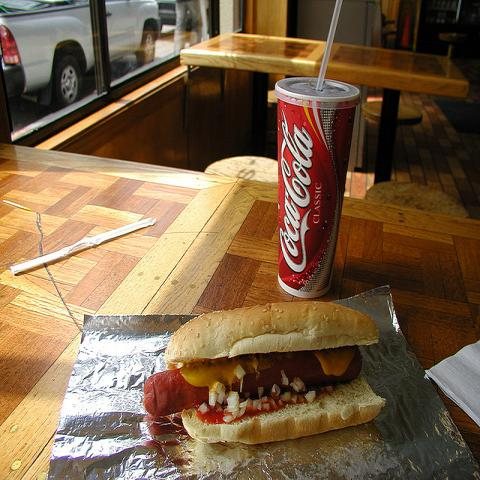car: (0, 0, 162, 106)
